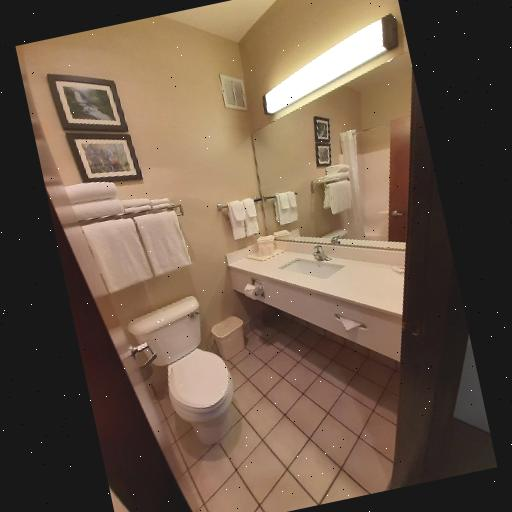clean mirror: (224, 62, 430, 263)
clean_floor: (163, 327, 397, 512)
clean_toilet: (136, 290, 246, 467)
folded_towel: (225, 236, 403, 362), (62, 200, 192, 292), (47, 172, 125, 232), (109, 184, 175, 216), (224, 196, 266, 243)
